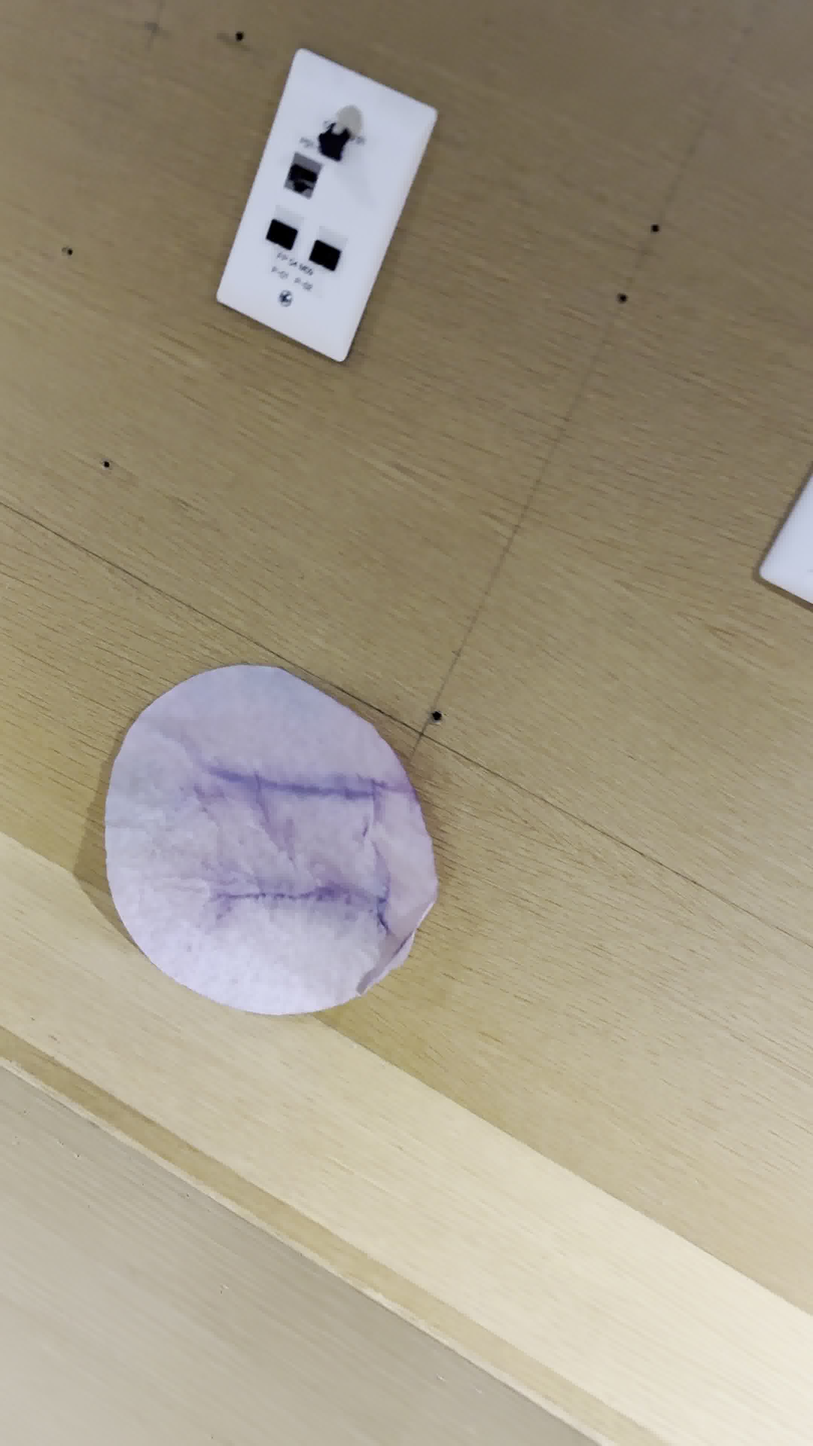Target: (103, 664, 436, 1015)
